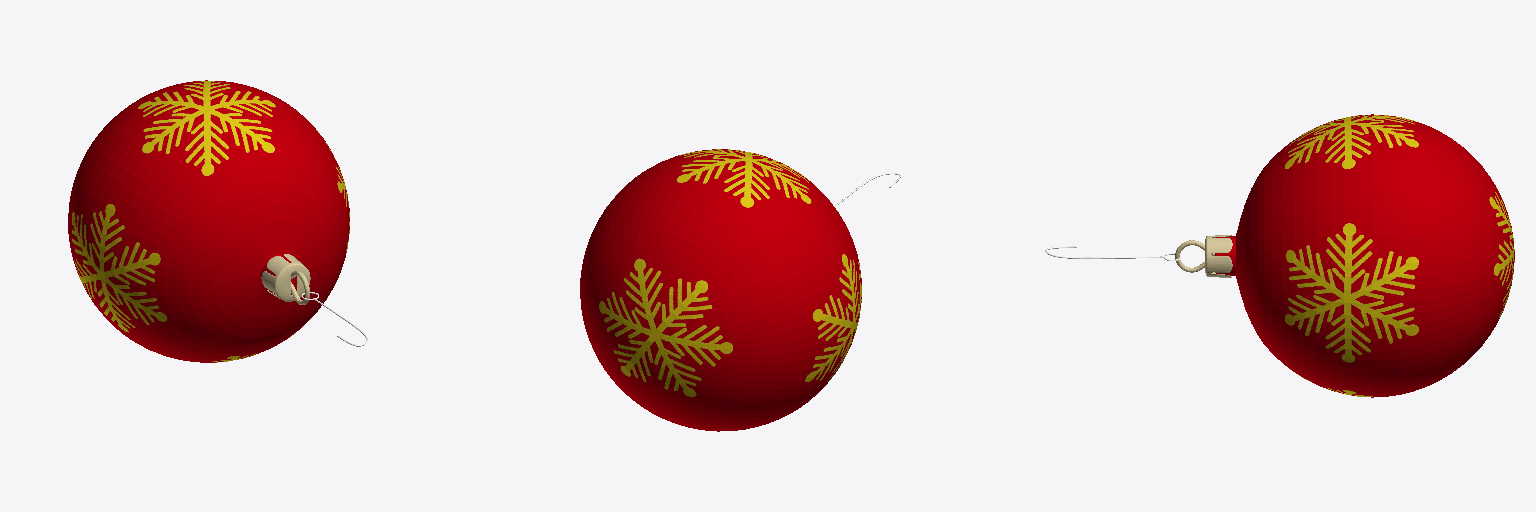
3 views of the same model, side by side, from view 1: azimuth 30°, elevation 25°; view 2: azimuth 150°, elevation 25°; view 3: azimuth 270°, elevation 25° (orthographic).
Parts seen in each view (by area): view 1: 11565ball, glass_ball_1; view 2: 11565ball; view 3: 11565ball, glass_ball_1.
Part boxes in pixels (x1,y1,x2,y2): 11565ball: (68,80,349,362); glass_ball_1: (261,254,310,304); 11565ball: (580,149,861,431); 11565ball: (1215,114,1514,397); glass_ball_1: (1175,235,1232,277).
Bounding box in the file's own units: 5.83 × 5.83 × 9.67.
Materials: 3 (1 with a texture image).